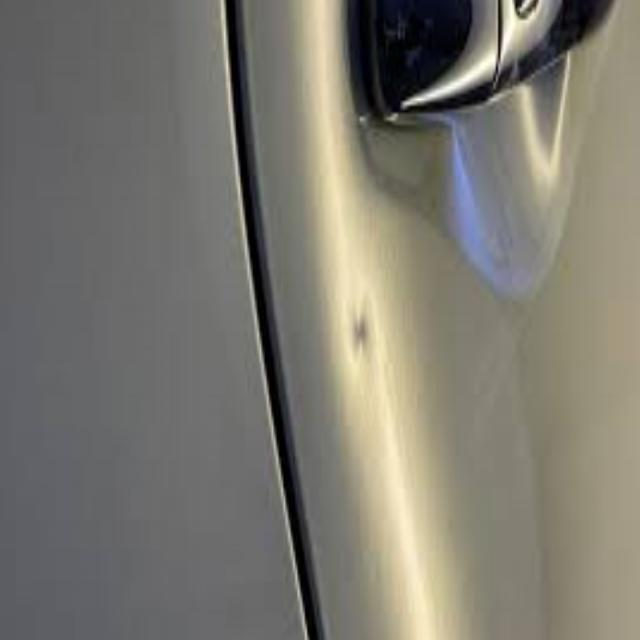dents: (340, 264, 382, 384)
